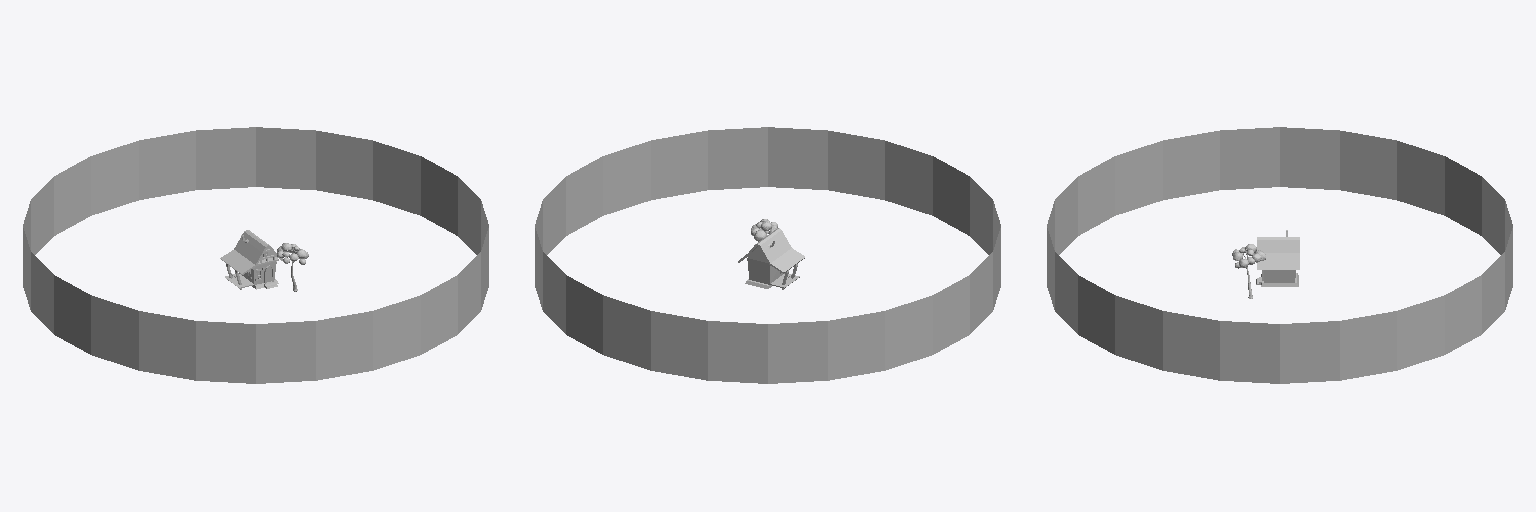
Rendered from full_scene.obj.
3 renders of one model, left to right at view 1: azimuth 30°, elevation 25°; view 2: azimuth 150°, elevation 25°; view 3: azimuth 270°, elevation 25°, orthographic.
Bounding box in the file's own units: 64.86 × 9.32 × 64.86.